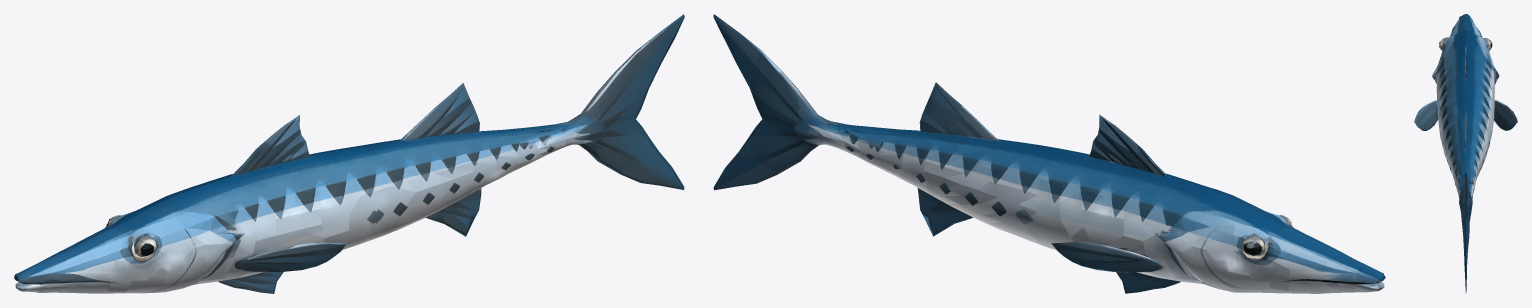
3 renders of one model, left to right at view 1: azimuth 30°, elevation 25°; view 2: azimuth 150°, elevation 25°; view 3: azimuth 270°, elevation 25°, orthographic. The views are drawn at different scales.
Bounding box in the file's own units: 1 × 0.2568 × 0.1938.
1 material, 1 textured.
